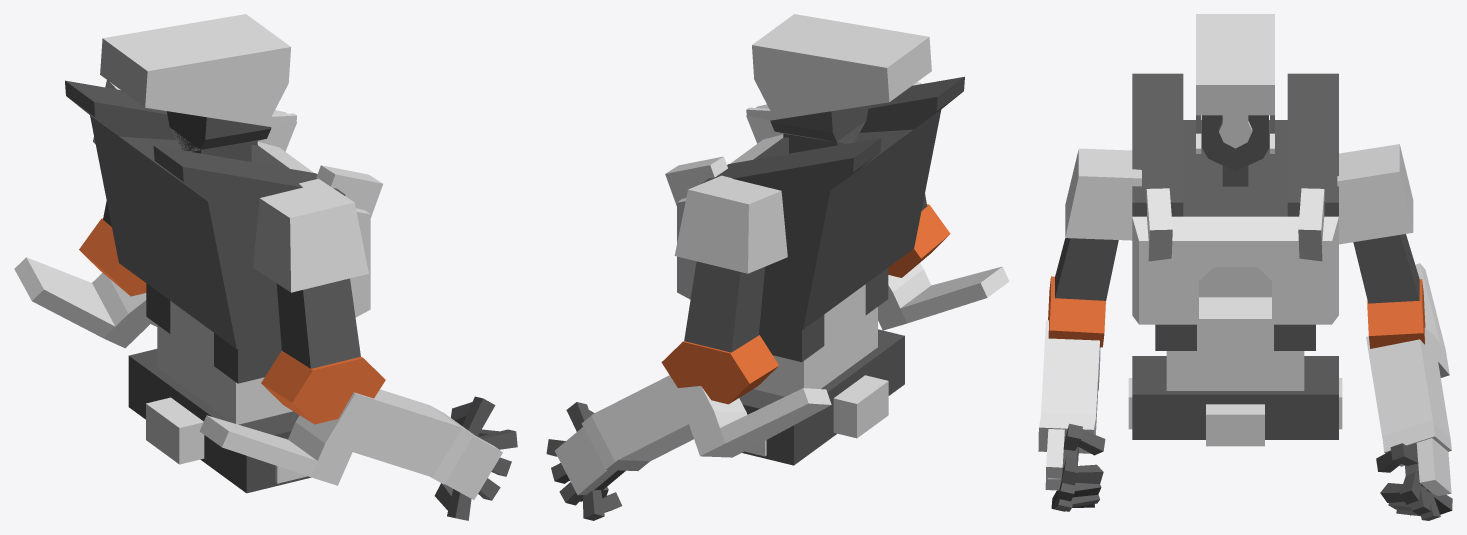
The model's file is BodyNormal.fbx.
The picture shows the model from 3 angles, left to right: view 1: azimuth 30°, elevation 25°; view 2: azimuth 150°, elevation 25°; view 3: azimuth 270°, elevation 25°; orthographic projection. The views are drawn at different scales.
Visible parts, largest first — view 1: NB; view 2: NB; view 3: NB.
Boxes of the visible parts, box(x1,y1,x2,y2) form: NB: box(14, 14, 517, 520); NB: box(546, 14, 1009, 520); NB: box(1038, 14, 1452, 520).
Size of the model in its own units: 1321 by 1966 by 1803.
